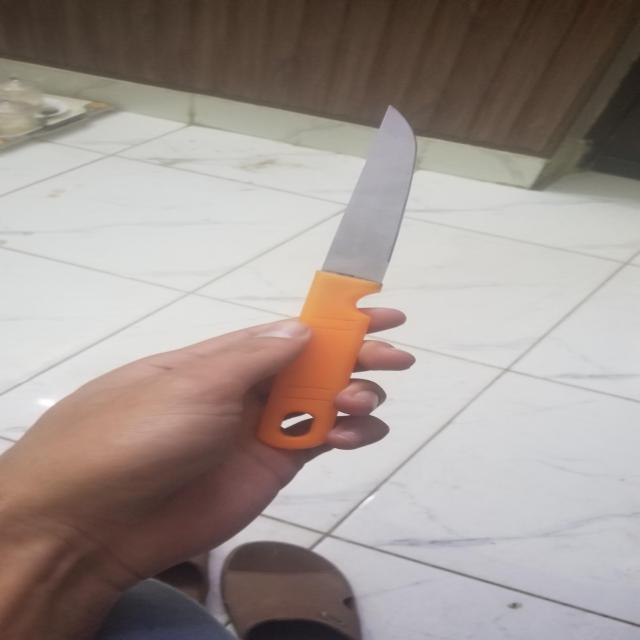faca: (254, 106, 421, 448)
